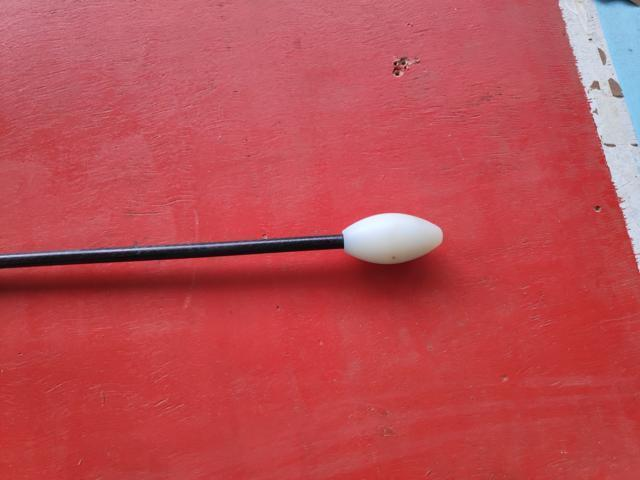Head: (338, 210, 445, 266)
